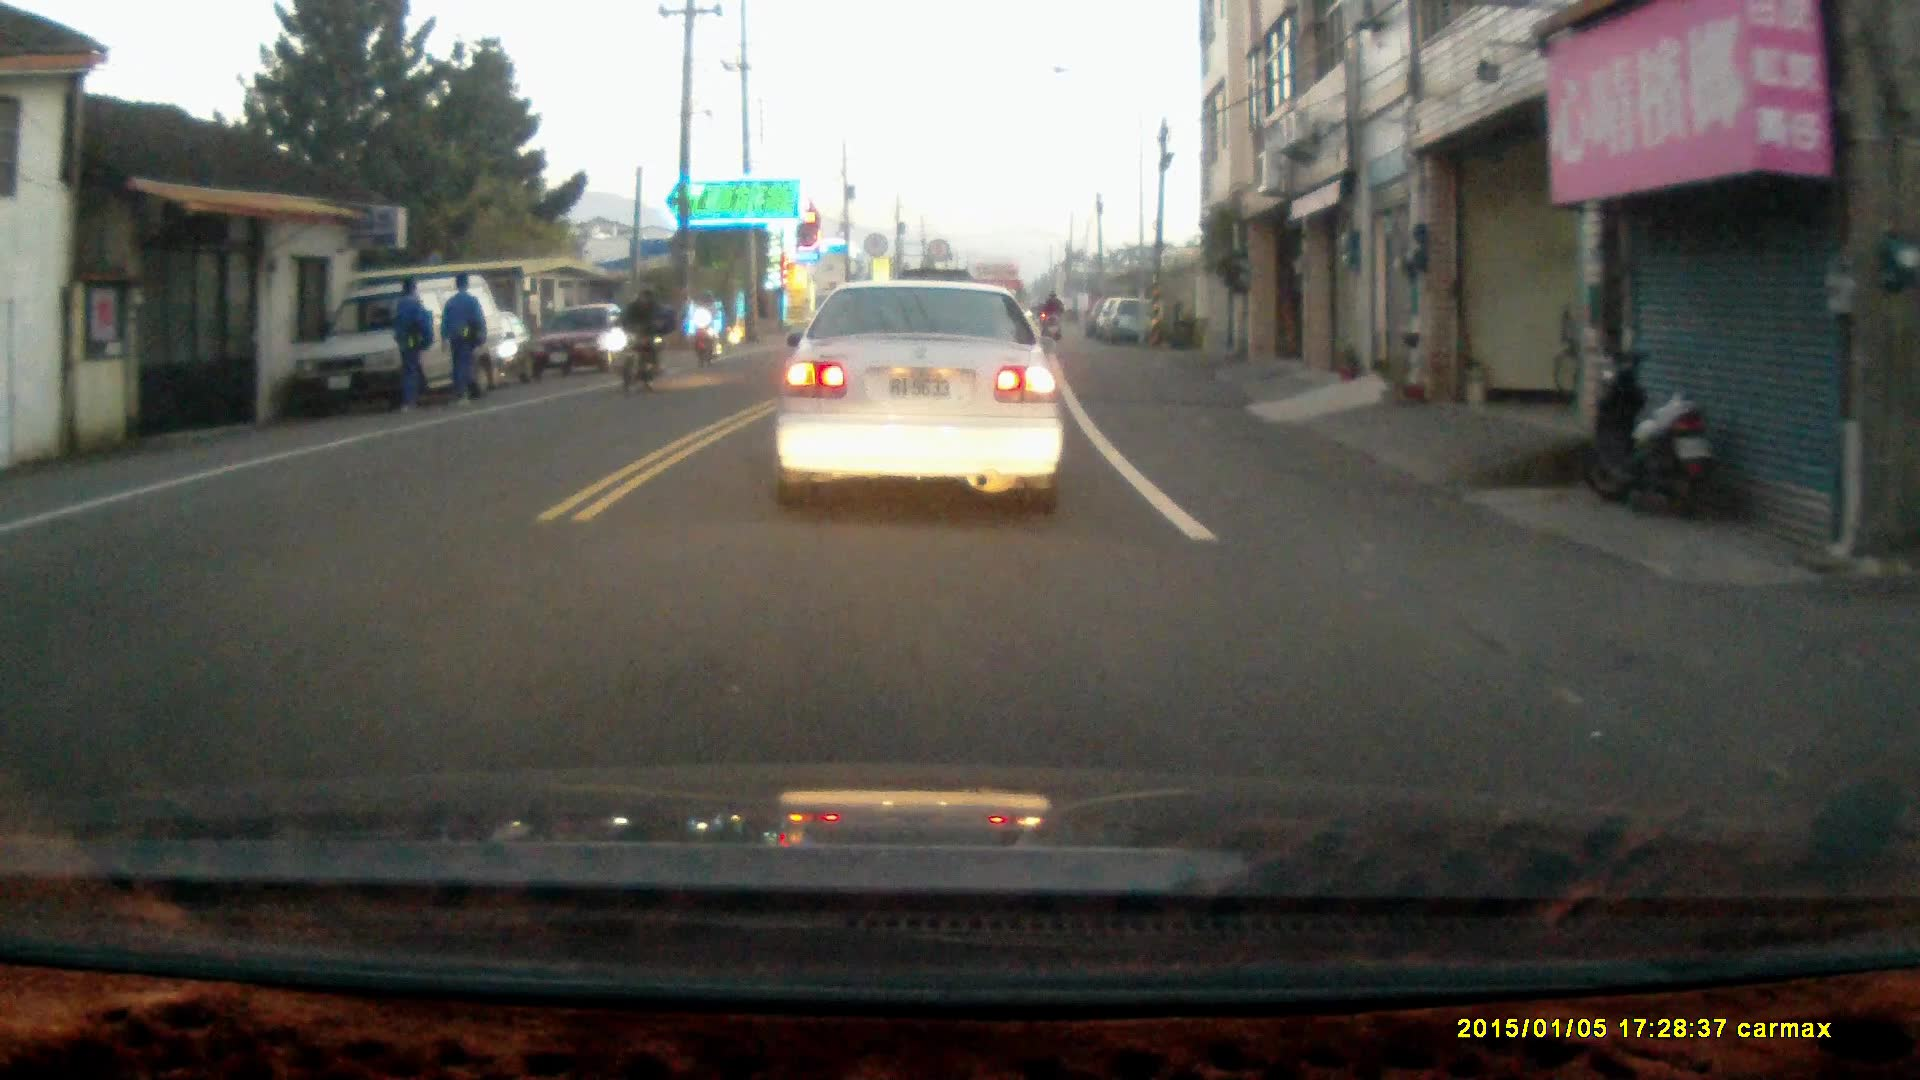pedestrian: (435, 270, 486, 410), (382, 279, 430, 415)
rider: (611, 283, 674, 393), (688, 286, 721, 368)
vehicle: (770, 274, 1068, 513), (294, 276, 518, 408), (530, 304, 644, 380)
